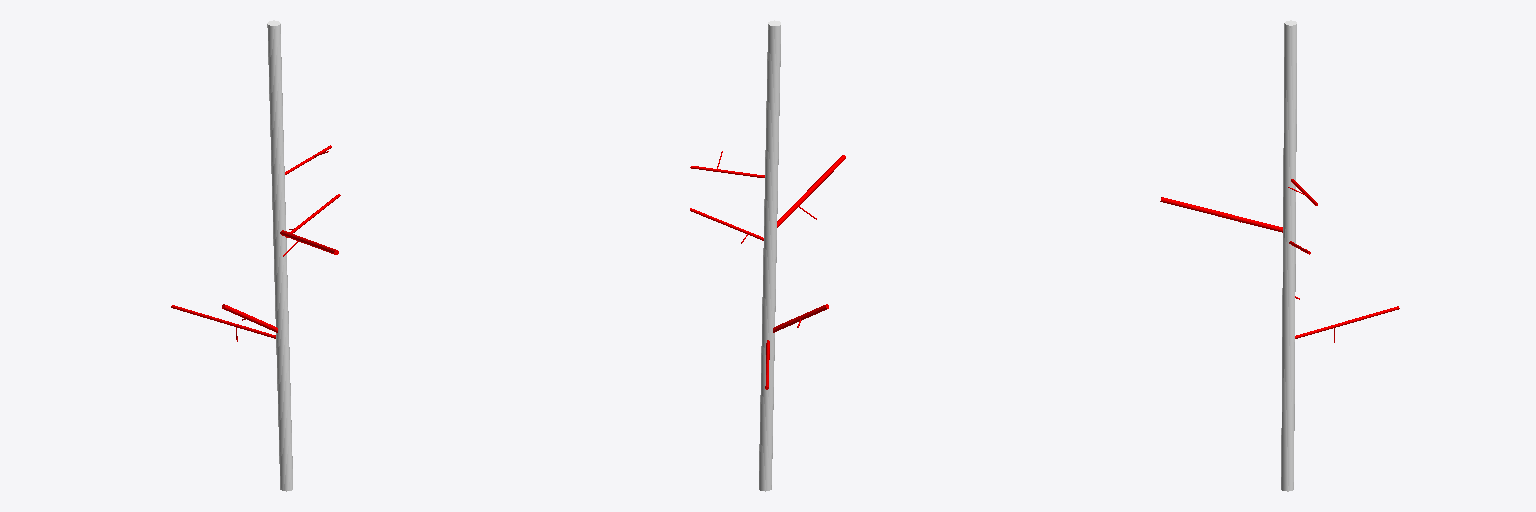
URDF robot description (tree_19.urdf):
<?xml version='1.0' encoding='UTF-8'?>
<robot name="tree_19.urdf">
  <link name="branch_0">
    <inertial>
      <origin xyz="0.0 0.0 0.0" rpy="0.0 -0.0 0.0"/>
      <mass value="0.1"/>
      <inertia ixx="0.001" ixy="0.0" ixz="0.0" iyy="0.001" iyz="0.0" izz="0.001"/>
    </inertial>
    <visual name="branch_0_visual">
      <geometry>
        <cylinder radius="0.11115653027124237" length="8.658667607506082"/>
      </geometry>
      <material name="branch_material"/>
      <origin xyz="-0.1080670284932319 0.0283935242854304 4.32789169335949" rpy="0.0 0.025811650215860984 2.8846598665102765"/>
    </visual>
    <collision name="branch_0_collision">
      <geometry>
        <cylinder radius="0.11115653027124237" length="8.658667607506082"/>
      </geometry>
      <origin xyz="-0.1080670284932319 0.0283935242854304 4.32789169335949" rpy="0.0 0.025811650215860984 2.8846598665102765"/>
    </collision>
  </link>
  <link name="branch_1">
    <inertial>
      <origin xyz="0.0 0.0 0.0" rpy="0.0 -0.0 0.0"/>
      <mass value="0.1"/>
      <inertia ixx="0.001" ixy="0.0" ixz="0.0" iyy="0.001" iyz="0.0" izz="0.001"/>
    </inertial>
    <visual name="branch_1_visual">
      <geometry>
        <cylinder radius="0.04360587004912933" length="2.257384932949089"/>
      </geometry>
      <material name="semantic_material"/>
      <origin xyz="0.0 0.0 0.0" rpy="0.0 -0.0 0.0"/>
    </visual>
    <collision name="branch_1_collision">
      <geometry>
        <cylinder radius="0.04360587004912933" length="2.257384932949089"/>
      </geometry>
      <origin xyz="0.0 0.0 0.0" rpy="0.0 -0.0 0.0"/>
    </collision>
  </link>
  <link name="branch_2">
    <inertial>
      <origin xyz="0.0 0.0 0.0" rpy="0.0 -0.0 0.0"/>
      <mass value="0.1"/>
      <inertia ixx="0.001" ixy="0.0" ixz="0.0" iyy="0.001" iyz="0.0" izz="0.001"/>
    </inertial>
    <visual name="branch_2_visual">
      <geometry>
        <cylinder radius="0.01176447232632879" length="0.41712004233550615"/>
      </geometry>
      <material name="semantic_material"/>
      <origin xyz="0.0 0.0 0.0" rpy="0.0 -0.0 0.0"/>
    </visual>
    <collision name="branch_2_collision">
      <geometry>
        <cylinder radius="0.01176447232632879" length="0.41712004233550615"/>
      </geometry>
      <origin xyz="0.0 0.0 0.0" rpy="0.0 -0.0 0.0"/>
    </collision>
  </link>
  <link name="branch_3">
    <inertial>
      <origin xyz="0.0 0.0 0.0" rpy="0.0 -0.0 0.0"/>
      <mass value="0.1"/>
      <inertia ixx="0.001" ixy="0.0" ixz="0.0" iyy="0.001" iyz="0.0" izz="0.001"/>
    </inertial>
    <visual name="branch_3_visual">
      <geometry>
        <cylinder radius="0.024789723514539626" length="1.3763280453604603"/>
      </geometry>
      <material name="semantic_material"/>
      <origin xyz="0.0 0.0 0.0" rpy="0.0 -0.0 0.0"/>
    </visual>
    <collision name="branch_3_collision">
      <geometry>
        <cylinder radius="0.024789723514539626" length="1.3763280453604603"/>
      </geometry>
      <origin xyz="0.0 0.0 0.0" rpy="0.0 -0.0 0.0"/>
    </collision>
  </link>
  <link name="branch_4">
    <inertial>
      <origin xyz="0.0 0.0 0.0" rpy="0.0 -0.0 0.0"/>
      <mass value="0.1"/>
      <inertia ixx="0.001" ixy="0.0" ixz="0.0" iyy="0.001" iyz="0.0" izz="0.001"/>
    </inertial>
    <visual name="branch_4_visual">
      <geometry>
        <cylinder radius="0.01" length="0.40071574063411597"/>
      </geometry>
      <material name="semantic_material"/>
      <origin xyz="0.0 0.0 0.0" rpy="0.0 -0.0 0.0"/>
    </visual>
    <collision name="branch_4_collision">
      <geometry>
        <cylinder radius="0.01" length="0.40071574063411597"/>
      </geometry>
      <origin xyz="0.0 0.0 0.0" rpy="0.0 -0.0 0.0"/>
    </collision>
  </link>
  <link name="branch_5">
    <inertial>
      <origin xyz="0.0 0.0 0.0" rpy="0.0 -0.0 0.0"/>
      <mass value="0.1"/>
      <inertia ixx="0.001" ixy="0.0" ixz="0.0" iyy="0.001" iyz="0.0" izz="0.001"/>
    </inertial>
    <visual name="branch_5_visual">
      <geometry>
        <cylinder radius="0.0283878861447691" length="2.158478061039075"/>
      </geometry>
      <material name="semantic_material"/>
      <origin xyz="0.0 0.0 0.0" rpy="0.0 -0.0 0.0"/>
    </visual>
    <collision name="branch_5_collision">
      <geometry>
        <cylinder radius="0.0283878861447691" length="2.158478061039075"/>
      </geometry>
      <origin xyz="0.0 0.0 0.0" rpy="0.0 -0.0 0.0"/>
    </collision>
  </link>
  <link name="branch_6">
    <inertial>
      <origin xyz="0.0 0.0 0.0" rpy="0.0 -0.0 0.0"/>
      <mass value="0.1"/>
      <inertia ixx="0.001" ixy="0.0" ixz="0.0" iyy="0.001" iyz="0.0" izz="0.001"/>
    </inertial>
    <visual name="branch_6_visual">
      <geometry>
        <cylinder radius="0.01" length="0.3035431546965428"/>
      </geometry>
      <material name="semantic_material"/>
      <origin xyz="0.0 0.0 0.0" rpy="0.0 -0.0 0.0"/>
    </visual>
    <collision name="branch_6_collision">
      <geometry>
        <cylinder radius="0.01" length="0.3035431546965428"/>
      </geometry>
      <origin xyz="0.0 0.0 0.0" rpy="0.0 -0.0 0.0"/>
    </collision>
  </link>
  <link name="branch_7">
    <inertial>
      <origin xyz="0.0 0.0 0.0" rpy="0.0 -0.0 0.0"/>
      <mass value="0.1"/>
      <inertia ixx="0.001" ixy="0.0" ixz="0.0" iyy="0.001" iyz="0.0" izz="0.001"/>
    </inertial>
    <visual name="branch_7_visual">
      <geometry>
        <cylinder radius="0.026744500460303078" length="1.45415144749586"/>
      </geometry>
      <material name="semantic_material"/>
      <origin xyz="0.0 0.0 0.0" rpy="0.0 -0.0 0.0"/>
    </visual>
    <collision name="branch_7_collision">
      <geometry>
        <cylinder radius="0.026744500460303078" length="1.45415144749586"/>
      </geometry>
      <origin xyz="0.0 0.0 0.0" rpy="0.0 -0.0 0.0"/>
    </collision>
  </link>
  <link name="branch_8">
    <inertial>
      <origin xyz="0.0 0.0 0.0" rpy="0.0 -0.0 0.0"/>
      <mass value="0.1"/>
      <inertia ixx="0.001" ixy="0.0" ixz="0.0" iyy="0.001" iyz="0.0" izz="0.001"/>
    </inertial>
    <visual name="branch_8_visual">
      <geometry>
        <cylinder radius="0.01" length="0.2493559176076286"/>
      </geometry>
      <material name="semantic_material"/>
      <origin xyz="0.0 0.0 0.0" rpy="0.0 -0.0 0.0"/>
    </visual>
    <collision name="branch_8_collision">
      <geometry>
        <cylinder radius="0.01" length="0.2493559176076286"/>
      </geometry>
      <origin xyz="0.0 0.0 0.0" rpy="0.0 -0.0 0.0"/>
    </collision>
  </link>
  <link name="branch_9">
    <inertial>
      <origin xyz="0.0 0.0 0.0" rpy="0.0 -0.0 0.0"/>
      <mass value="0.1"/>
      <inertia ixx="0.001" ixy="0.0" ixz="0.0" iyy="0.001" iyz="0.0" izz="0.001"/>
    </inertial>
    <visual name="branch_9_visual">
      <geometry>
        <cylinder radius="0.042799921557939234" length="1.3670288459384838"/>
      </geometry>
      <material name="semantic_material"/>
      <origin xyz="0.0 0.0 0.0" rpy="0.0 -0.0 0.0"/>
    </visual>
    <collision name="branch_9_collision">
      <geometry>
        <cylinder radius="0.042799921557939234" length="1.3670288459384838"/>
      </geometry>
      <origin xyz="0.0 0.0 0.0" rpy="0.0 -0.0 0.0"/>
    </collision>
  </link>
  <link name="branch_10">
    <inertial>
      <origin xyz="0.0 0.0 0.0" rpy="0.0 -0.0 0.0"/>
      <mass value="0.1"/>
      <inertia ixx="0.001" ixy="0.0" ixz="0.0" iyy="0.001" iyz="0.0" izz="0.001"/>
    </inertial>
    <visual name="branch_10_visual">
      <geometry>
        <cylinder radius="0.013664851828008027" length="0.21467277287064873"/>
      </geometry>
      <material name="semantic_material"/>
      <origin xyz="0.0 0.0 0.0" rpy="0.0 -0.0 0.0"/>
    </visual>
    <collision name="branch_10_collision">
      <geometry>
        <cylinder radius="0.013664851828008027" length="0.21467277287064873"/>
      </geometry>
      <origin xyz="0.0 0.0 0.0" rpy="0.0 -0.0 0.0"/>
    </collision>
  </link>
  <joint name="joint_0_1" type="fixed">
    <parent link="branch_0"/>
    <child link="branch_1"/>
    <axis xyz="1. 0. 0."/>
    <origin xyz="-0.1991506755636204 -1.062533440052249 5.045777470516165" rpy="0.10695439282571935 1.3311003515250808 -1.533550714645686"/>
  </joint>
  <joint name="joint_0_3" type="fixed">
    <parent link="branch_0"/>
    <child link="branch_3"/>
    <axis xyz="1. 0. 0."/>
    <origin xyz="0.5018777081430577 0.27021951002842953 5.825178780214492" rpy="-0.21986425148213995 1.5038089650185562 0.12475046003843417"/>
  </joint>
  <joint name="joint_0_5" type="fixed">
    <parent link="branch_0"/>
    <child link="branch_5"/>
    <axis xyz="1. 0. 0."/>
    <origin xyz="-0.6000845845780768 0.9566582002747087 2.827936222245726" rpy="-0.3834433086384719 1.5212791702470383 1.7016137512211698"/>
  </joint>
  <joint name="joint_0_7" type="fixed">
    <parent link="branch_0"/>
    <child link="branch_7"/>
    <axis xyz="1. 0. 0."/>
    <origin xyz="0.5606409091101714 0.1982648849869517 4.799565716828447" rpy="-0.04245014317396833 1.2763707649393863 0.1997220568589799"/>
  </joint>
  <joint name="joint_0_9" type="fixed">
    <parent link="branch_0"/>
    <child link="branch_9"/>
    <axis xyz="1. 0. 0."/>
    <origin xyz="-0.644561096649702 0.02159978046355447 3.279972426127708" rpy="0.011977365216338224 0.9914830346420994 -3.131713745286142"/>
  </joint>
  <joint name="joint_1_2" type="fixed">
    <parent link="branch_0"/>
    <child link="branch_2"/>
    <axis xyz="1. 0. 0."/>
    <origin xyz="-0.3547184224585789 -0.7760390785101515 4.8653029235898675" rpy="-2.1133832243751605 0.2810412741045252 1.5697676680077384"/>
  </joint>
  <joint name="joint_3_4" type="fixed">
    <parent link="branch_0"/>
    <child link="branch_4"/>
    <axis xyz="1. 0. 0."/>
    <origin xyz="0.7719642305186287 0.1860175793135738 5.944747211541369" rpy="-1.0243144901682242 0.09174448046078129 -2.8398150272699465"/>
  </joint>
  <joint name="joint_5_6" type="fixed">
    <parent link="branch_0"/>
    <child link="branch_6"/>
    <axis xyz="1. 0. 0."/>
    <origin xyz="-0.5080163459293813 0.8010562435683071 2.668325500526869" rpy="-3.118155962199385 -0.04189634402829337 -1.0581678768178178"/>
  </joint>
  <joint name="joint_7_8" type="fixed">
    <parent link="branch_0"/>
    <child link="branch_8"/>
    <axis xyz="1. 0. 0."/>
    <origin xyz="0.2556407710359294 0.2348913138138146 4.651552001558173" rpy="2.0285161212432667 0.3457559432366182 -3.0032747973242615"/>
  </joint>
  <joint name="joint_9_10" type="fixed">
    <parent link="branch_0"/>
    <child link="branch_10"/>
    <axis xyz="1. 0. 0."/>
    <origin xyz="-0.7310888337489664 0.11385776447428117 3.274300344743253" rpy="-2.175268102565225 0.4869686142336551 -0.17446851742009517"/>
  </joint>
  <material name="branch_material">
    <color rgba="1. 1. 1. 1."/>
  </material>
  <material name="semantic_material">
    <color rgba="1. 0. 0. 1."/>
  </material>
</robot>

--- What the picture shows (computed from the rendered views, not written in the file) ---
Views: 3 orthographic renders of the robot side by side, from view 1: azimuth 30°, elevation 25°; view 2: azimuth 150°, elevation 25°; view 3: azimuth 270°, elevation 25°.
Robot: tree_19.urdf — 11 links, 10 joints (10 fixed); root link branch_0; default pose: every joint at zero.
Visible links, largest first — view 1: branch_0; view 2: branch_0; view 3: branch_0, branch_1.
Link boxes in pixels (left/top/right/bottom): branch_0: left=267, top=20, right=292, bottom=491; branch_0: left=759, top=20, right=780, bottom=491; branch_0: left=1281, top=20, right=1296, bottom=491; branch_1: left=1160, top=197, right=1282, bottom=232.
Bounding box of the posed robot: 2.49 × 4.08 × 8.66 m (x, y, z).
Geometry: primitives only (box / cylinder / sphere), no mesh files.
